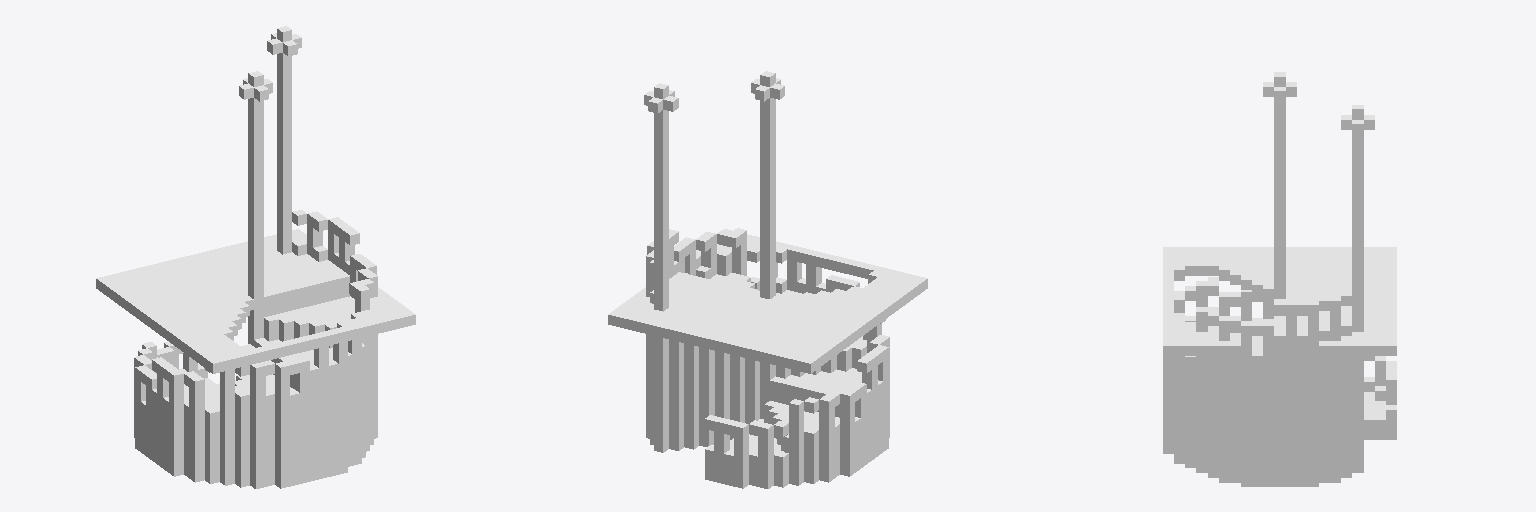
The model's file is StairsDown.obj.
3 views of the same model, side by side, from view 1: azimuth 30°, elevation 25°; view 2: azimuth 150°, elevation 25°; view 3: azimuth 270°, elevation 25° (orthographic).
Parts seen in each view (by area): view 1: object 1; view 2: object 1; view 3: object 1.
Part boxes in pixels (left/top/right/bottom): object 1: left=96, top=26, right=415, bottom=488; object 1: left=608, top=71, right=927, bottom=488; object 1: left=1163, top=72, right=1396, bottom=486.
Size of the model in its own units: 2.1 by 3.6 by 2.1.